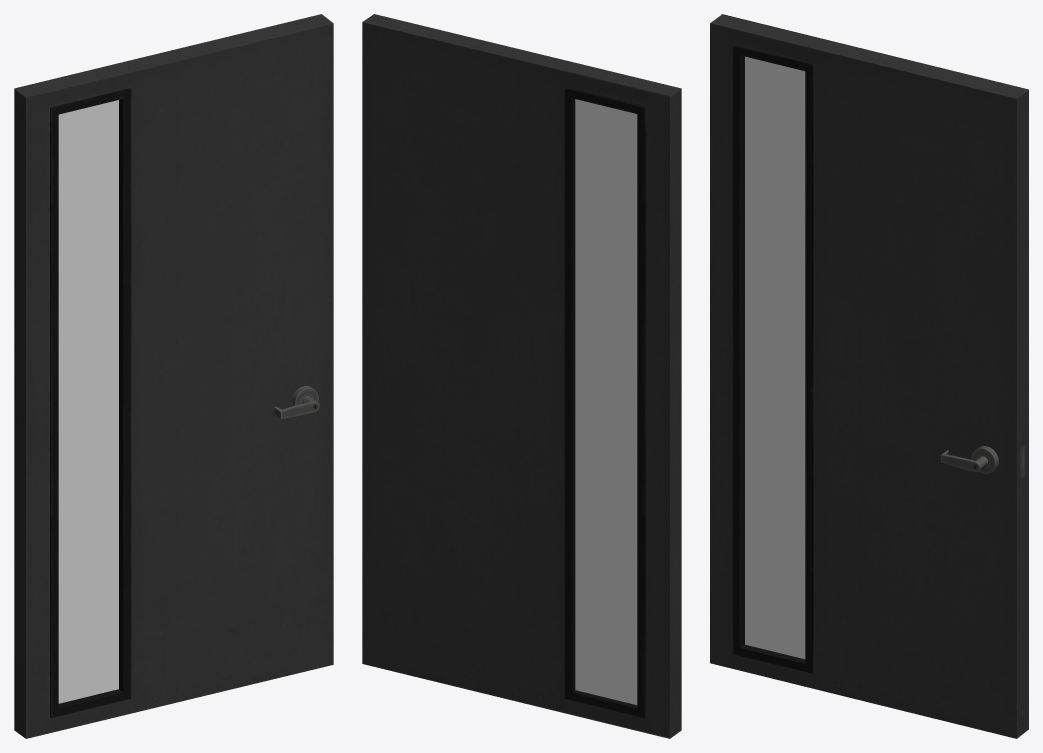
File: SM_PlasticDoor1.fbx
The picture shows the model from 3 angles, left to right: view 1: azimuth 30°, elevation 25°; view 2: azimuth 150°, elevation 25°; view 3: azimuth 330°, elevation 25°; orthographic projection.
Parts seen in each view (by area): view 1: SM_PlasticDoor1_LOD0; view 2: SM_PlasticDoor1_LOD0; view 3: SM_PlasticDoor1_LOD0.
Boxes of the visible parts, bbox=[...] form: SM_PlasticDoor1_LOD0: bbox=[14, 14, 333, 738]; SM_PlasticDoor1_LOD0: bbox=[362, 14, 681, 738]; SM_PlasticDoor1_LOD0: bbox=[710, 14, 1028, 738].
Size of the model in its own units: 105 by 14.65 by 210.
